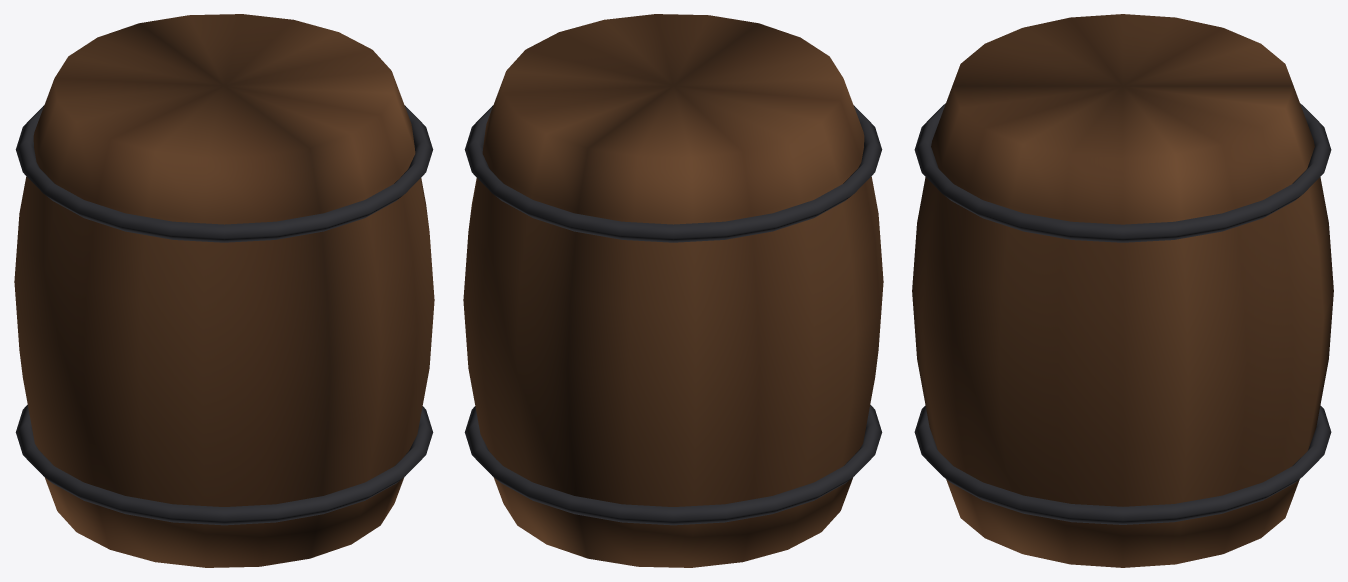
File: fbd64f98-4ffe-41ce-b4e8-d5cd297b428b.glb
3 views of the same model, side by side, from view 1: azimuth 30°, elevation 25°; view 2: azimuth 150°, elevation 25°; view 3: azimuth 270°, elevation 25° (orthographic).
Parts seen in each view (by area): view 1: Barrel; view 2: Barrel; view 3: Barrel.
Boxes of the visible parts, <box> form: Barrel: <box>14,14,434,567</box>; Barrel: <box>463,14,883,567</box>; Barrel: <box>912,14,1333,567</box>.
Size of the model in its own units: 0.84 by 0.9 by 0.84.
